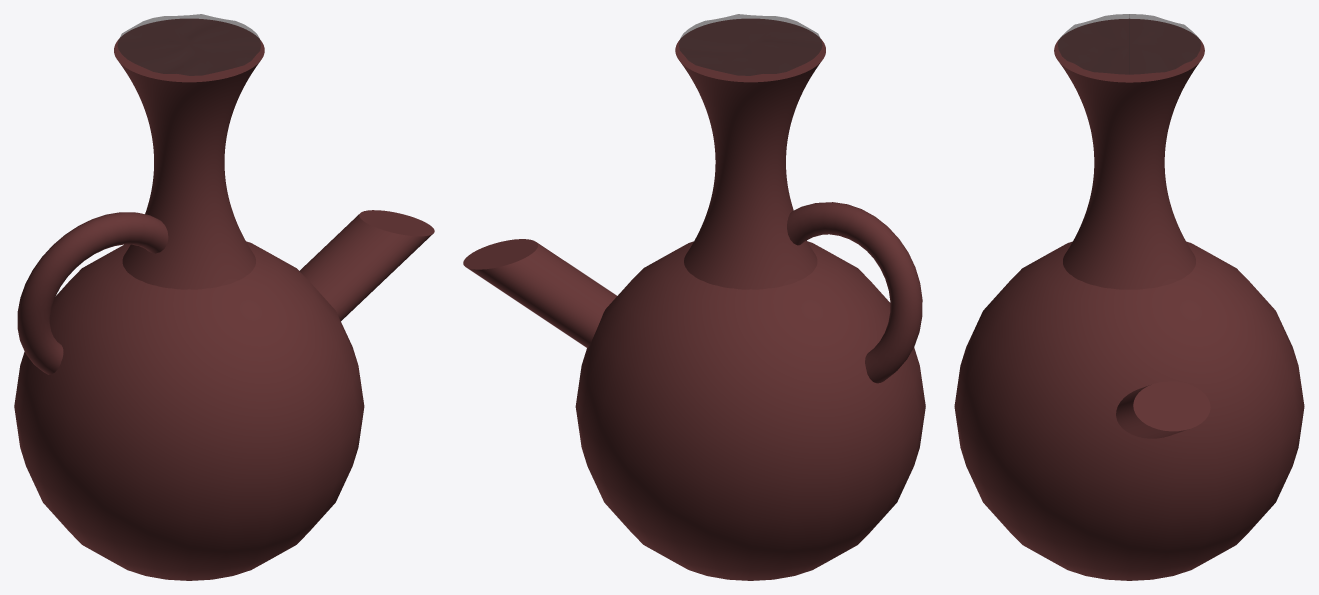
The model's file is Jebena2.glb.
3 renders of one model, left to right at view 1: azimuth 30°, elevation 25°; view 2: azimuth 150°, elevation 25°; view 3: azimuth 270°, elevation 25°, orthographic.
Visible parts, largest first — view 1: Sphere, Cylinder_1, Torus, Cylinder, Disc; view 2: Sphere, Cylinder_1, Torus, Cylinder, Disc; view 3: Sphere, Cylinder_1, Disc, Cylinder.
Part boxes in pixels (<box>): Sphere: <box>14,241,364,580</box>; Cylinder_1: <box>114,18,264,289</box>; Torus: <box>17,212,168,374</box>; Cylinder: <box>299,210,434,320</box>; Disc: <box>117,14,260,75</box>; Sphere: <box>575,241,925,580</box>; Cylinder_1: <box>675,18,825,289</box>; Torus: <box>787,202,922,383</box>; Cylinder: <box>463,239,616,347</box>; Disc: <box>679,14,822,75</box>; Sphere: <box>954,241,1304,580</box>; Cylinder_1: <box>1054,19,1204,289</box>; Disc: <box>1057,14,1201,74</box>; Cylinder: <box>1116,381,1210,438</box>.
Size of the model in its own units: 4127 by 4772 by 2905.
